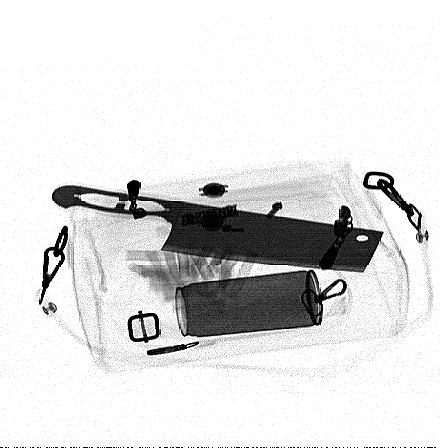Knife: (51, 185, 387, 276)
